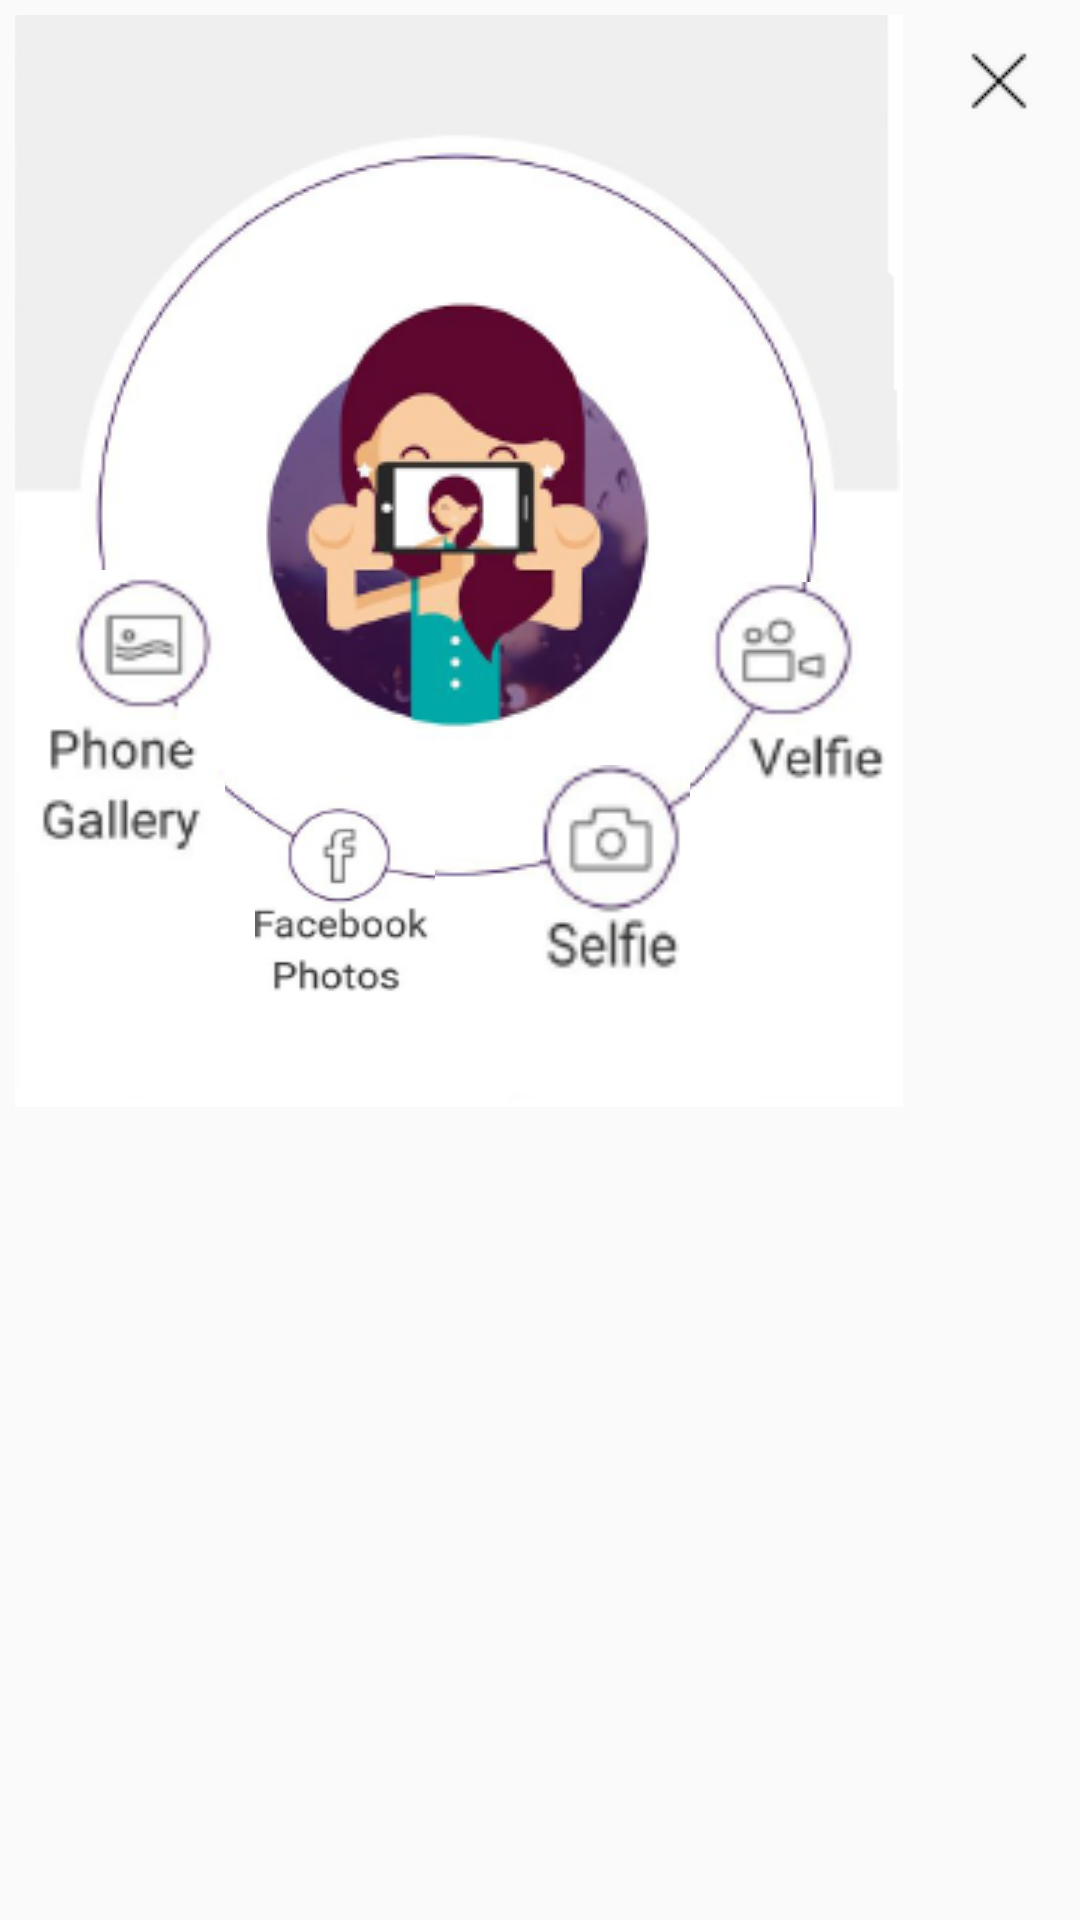

Icons on this 1080*1920 Android screen, each with the point to tap as (x=x, y=y):
close: (x=999, y=81)
